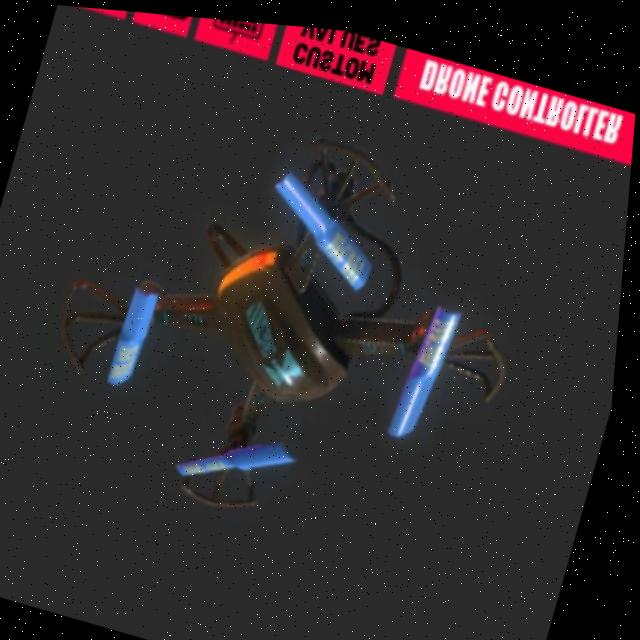drones: (0, 70, 570, 579)
